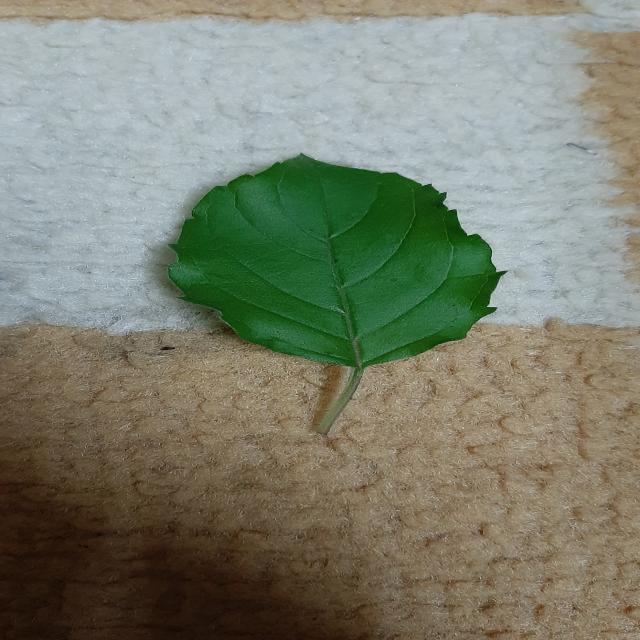tulsi: (168, 155, 504, 369)
